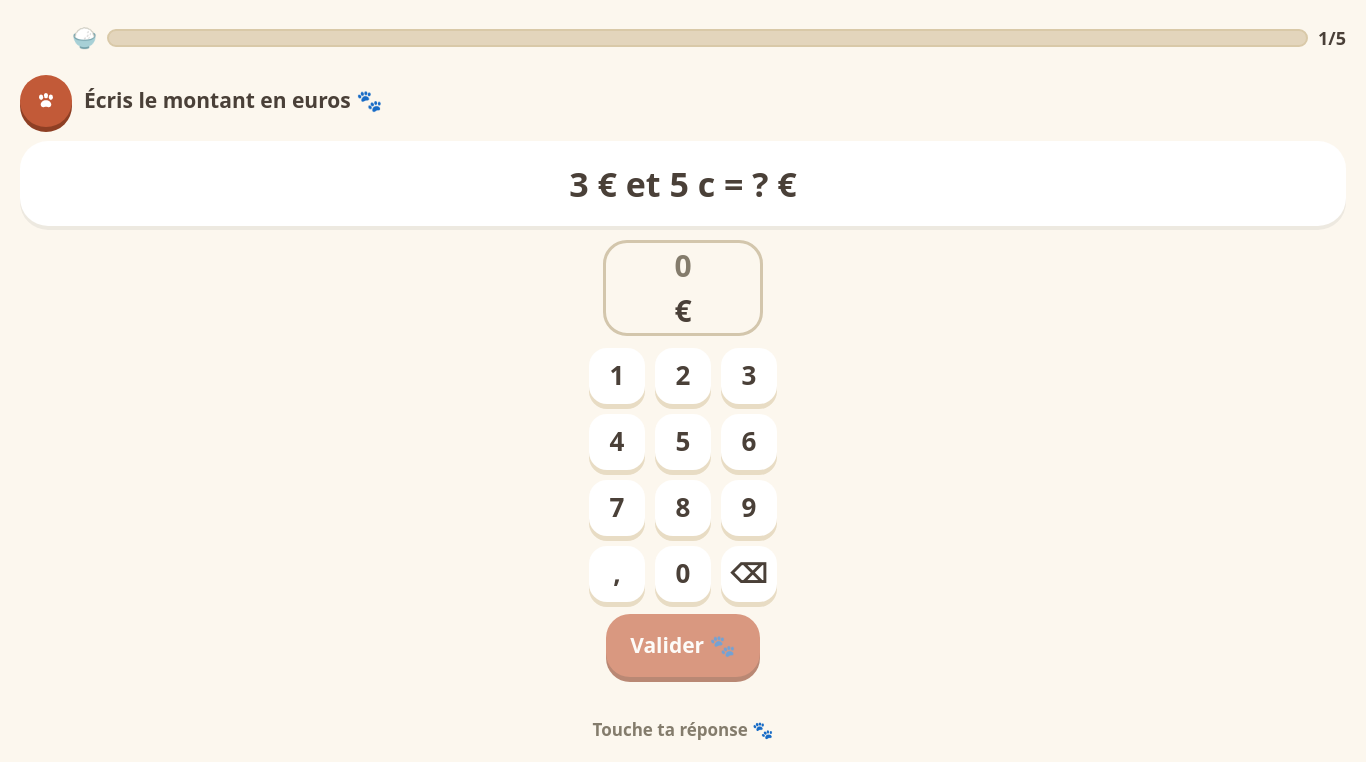
it: ExerciseView — monnaie › convertir : « 3,5 » est refusé pour 3,05 € (confusion des centimes)
This screenshot has width=1366, height=762.
Click the button "3" at (749, 376), box [721,348,777,404]
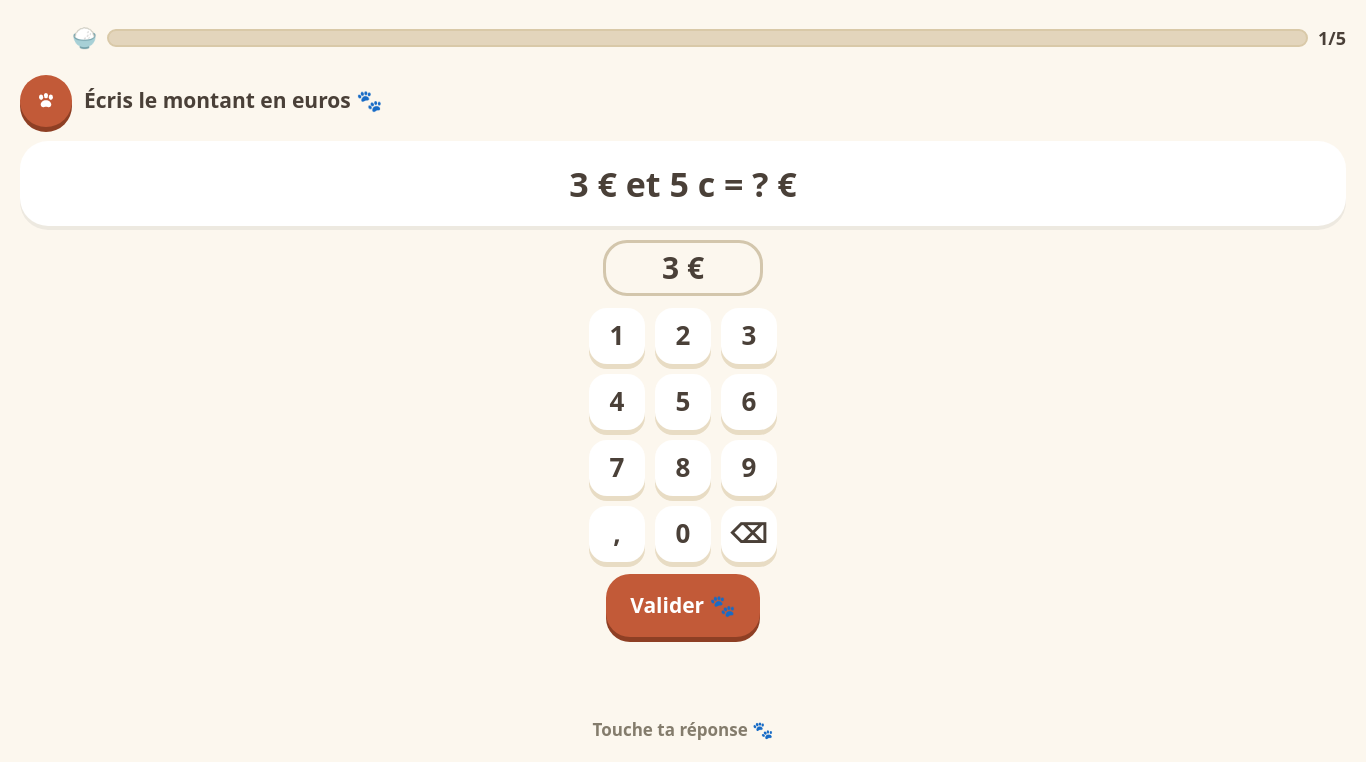
Click the button named "virgule" at (617, 534), box [589,506,645,562]
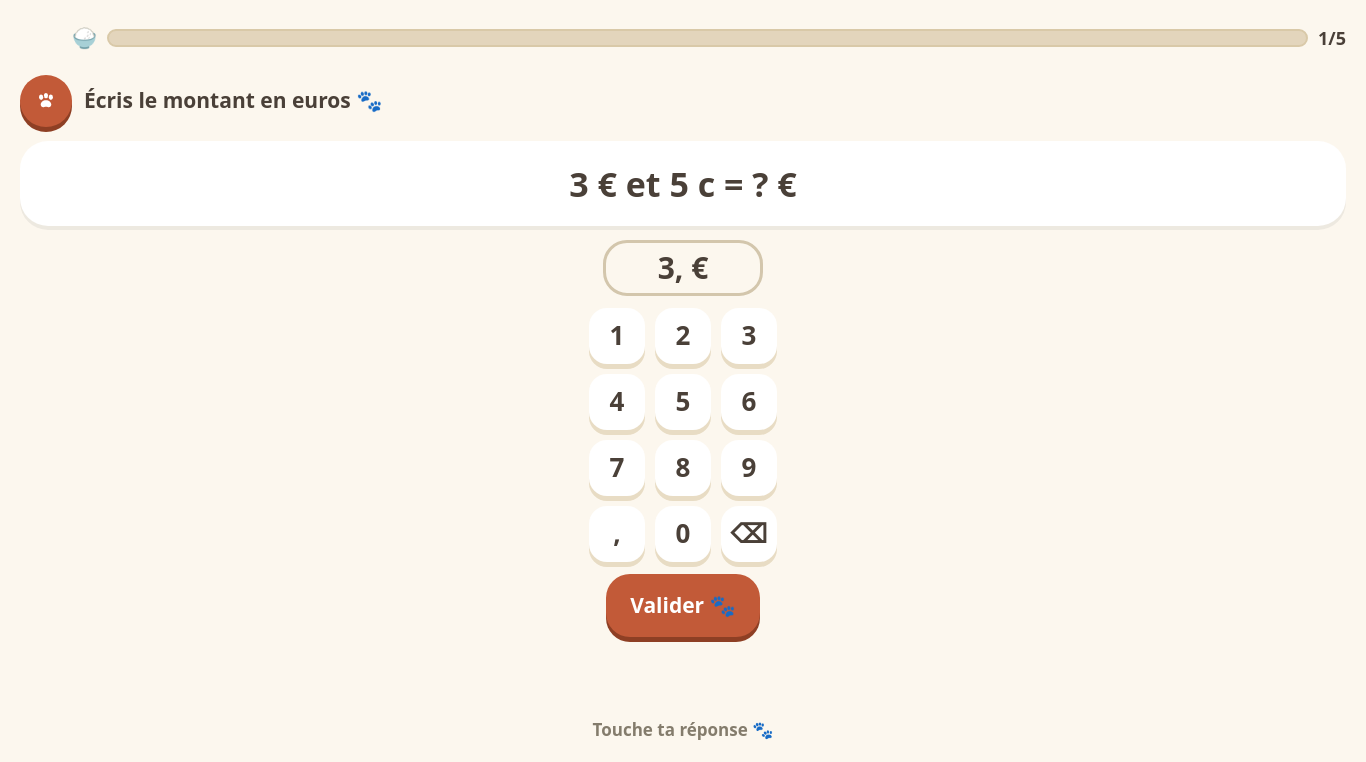
Click the button "5" at (683, 402), box [655,374,711,430]
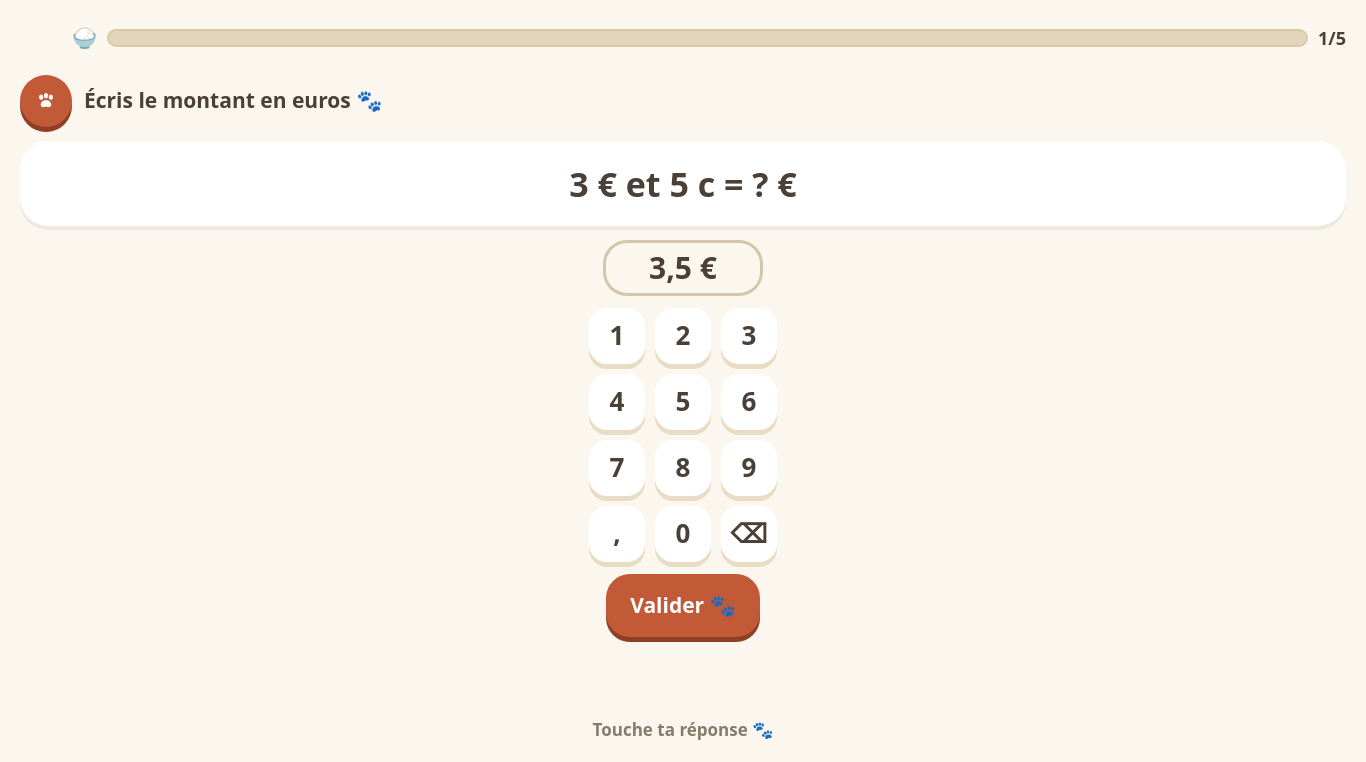
Click the button "Valider 🐾" at (683, 605), box [606,574,760,637]
(page scrolled)
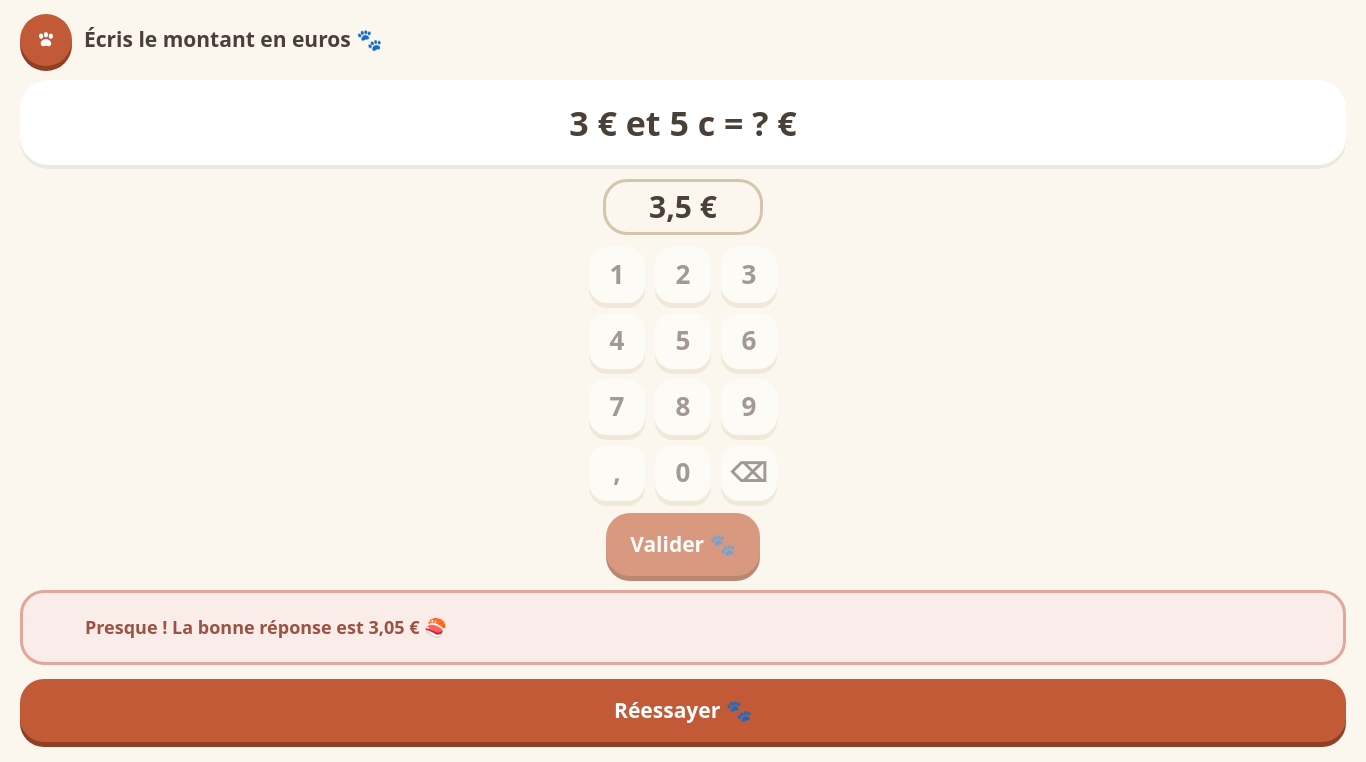
Now the button "Réessayer 🐾" is shown, box [20,679,1346,742]
